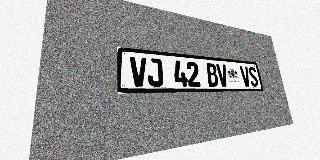2: (186, 61, 201, 87)
4: (173, 60, 188, 87)
B: (205, 63, 219, 87)
J: (147, 58, 164, 87)
S: (248, 67, 259, 87)
V: (130, 56, 148, 87), (216, 64, 229, 87), (239, 66, 251, 87)
